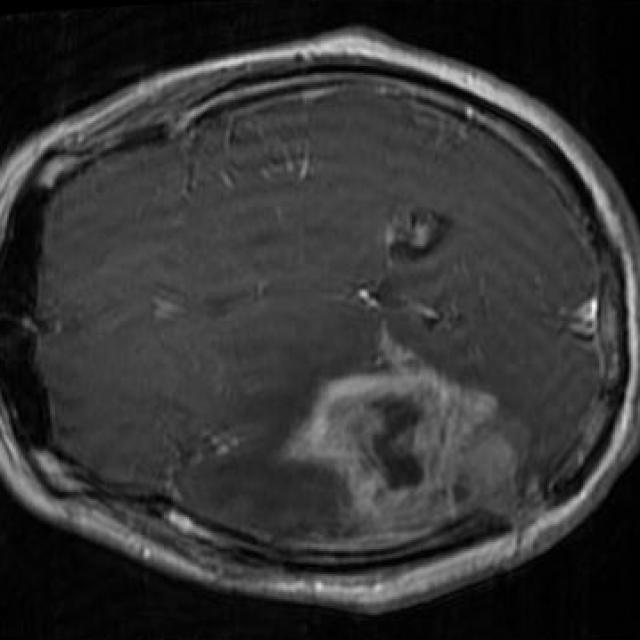glioma: (280, 337, 546, 547)
